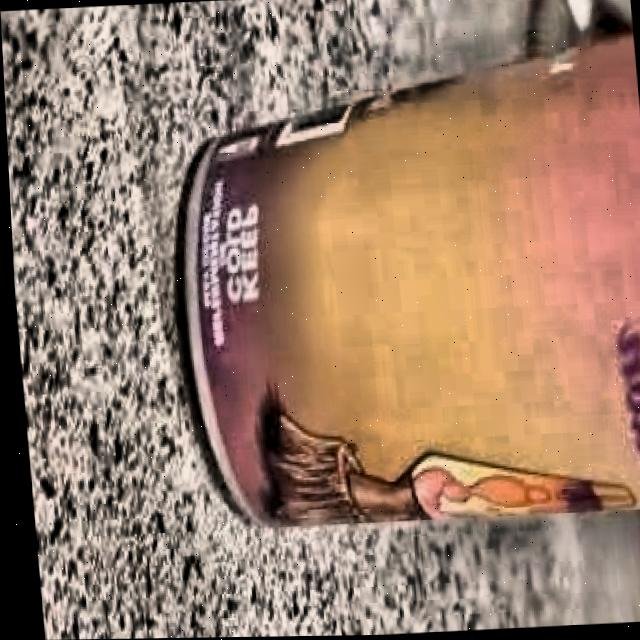metal: (127, 22, 640, 559)
